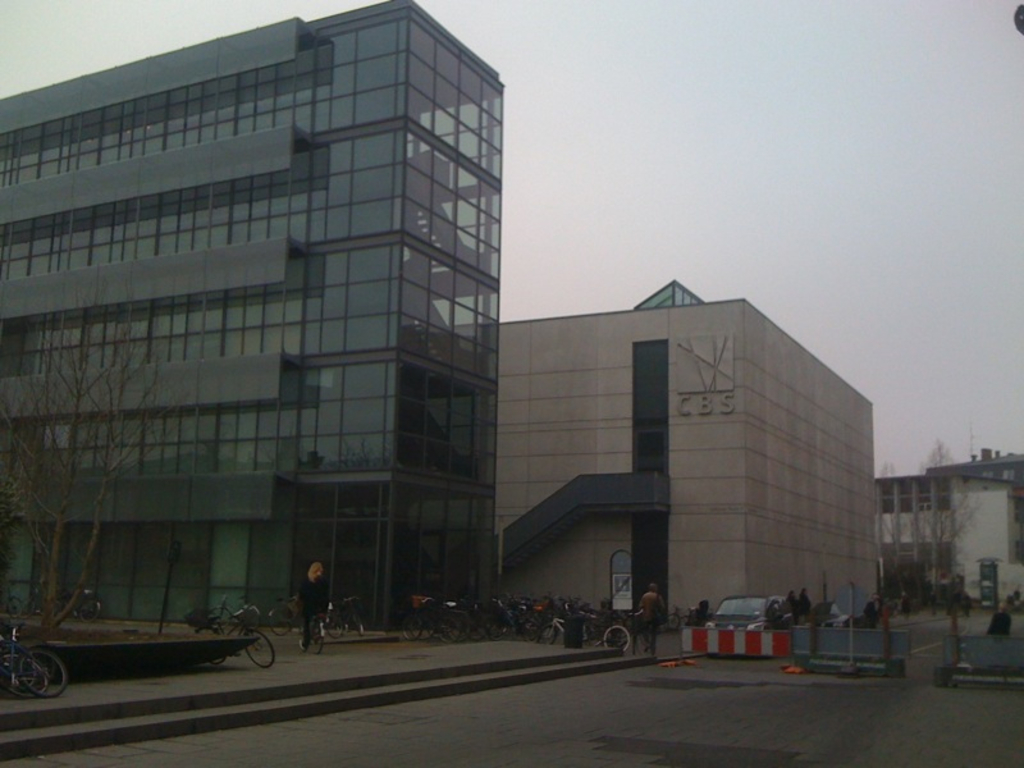bicycle: (399, 597, 710, 651), (192, 603, 280, 671), (0, 623, 69, 694), (0, 635, 47, 695), (205, 594, 257, 630), (0, 637, 34, 690), (325, 596, 366, 637), (61, 587, 102, 622), (267, 595, 300, 636), (297, 613, 323, 655), (0, 584, 21, 618), (20, 580, 41, 614)
